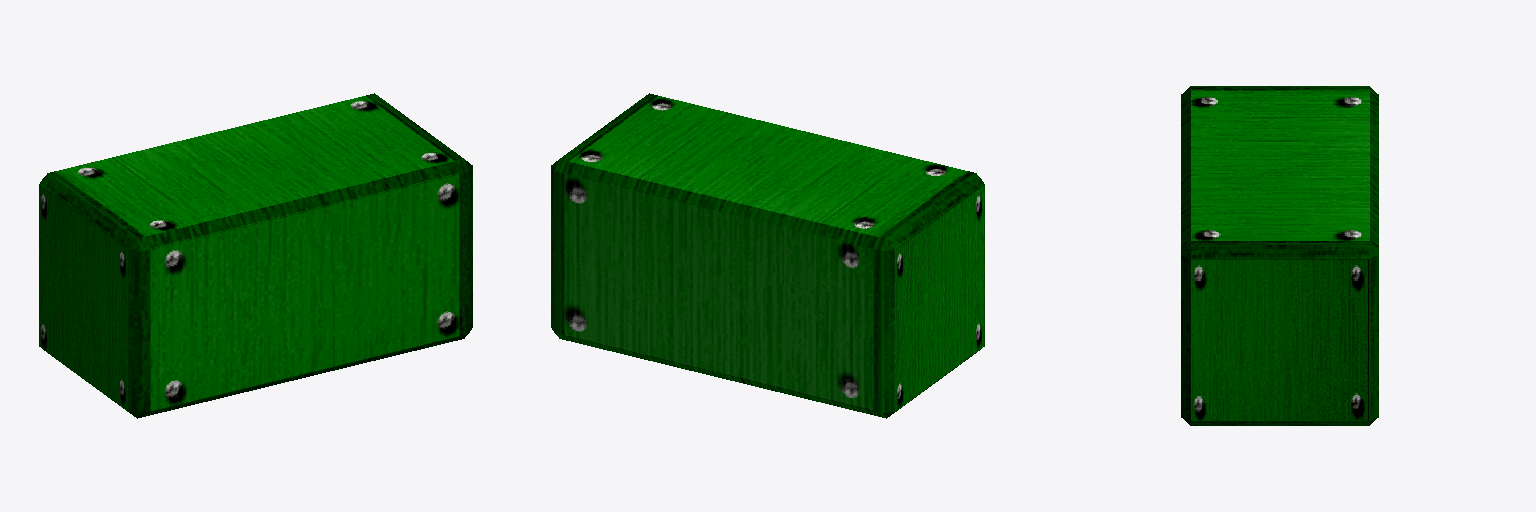
3 views of the same model, side by side, from view 1: azimuth 30°, elevation 25°; view 2: azimuth 150°, elevation 25°; view 3: azimuth 270°, elevation 25° (orthographic).
Parts seen in each view (by area): view 1: default; view 2: default; view 3: default.
Boxes of the visible parts, <box> form: default: <box>39,93,472,418</box>; default: <box>551,93,984,418</box>; default: <box>1181,86,1378,425</box>.
Size of the model in its own units: 2 by 1 by 1.
Materials: 1 (1 with a texture image).